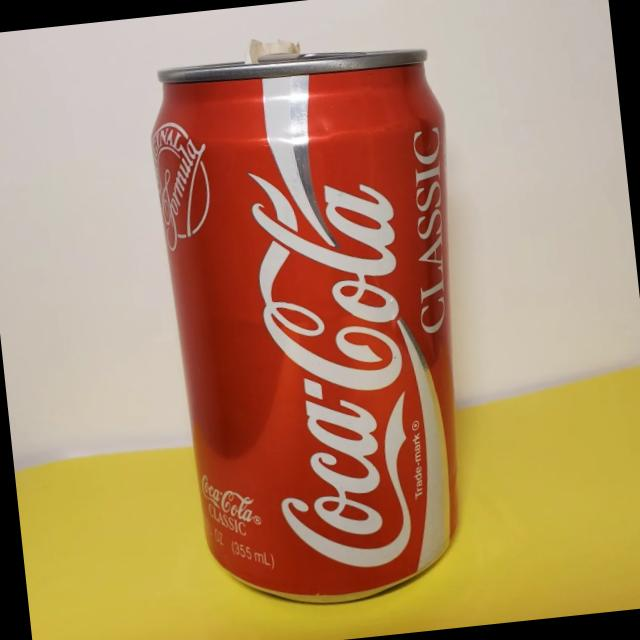cocacola: (136, 16, 480, 624)
